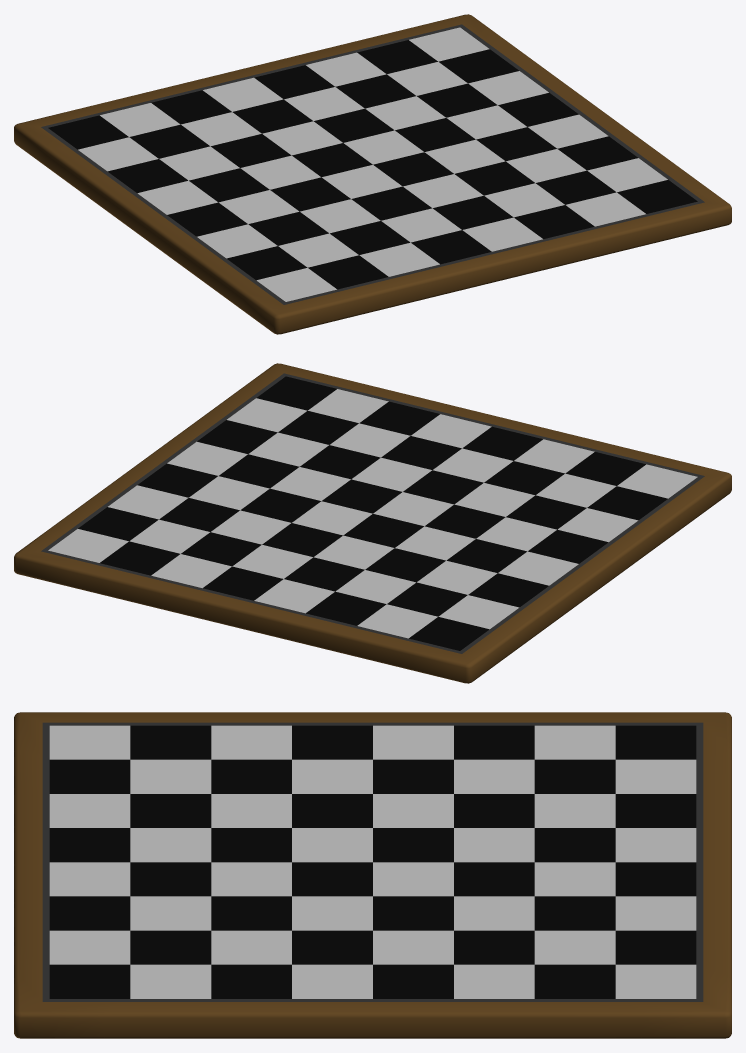
The model's file is SM_Chekerboard_Medium.fbx.
3 views of the same model, one above another, from view 1: azimuth 30°, elevation 25°; view 2: azimuth 150°, elevation 25°; view 3: azimuth 270°, elevation 25° (orthographic). The views are drawn at different scales.
Parts seen in each view (by area): view 1: SM_Chekerboard_Medium; view 2: SM_Chekerboard_Medium; view 3: SM_Chekerboard_Medium.
Part boxes in pixels (x1,y1,x2,y2): SM_Chekerboard_Medium: (14, 14, 731, 334); SM_Chekerboard_Medium: (14, 363, 731, 683); SM_Chekerboard_Medium: (14, 712, 731, 1038).
Size of the model in its own units: 44.41 by 1.81 by 44.41.
